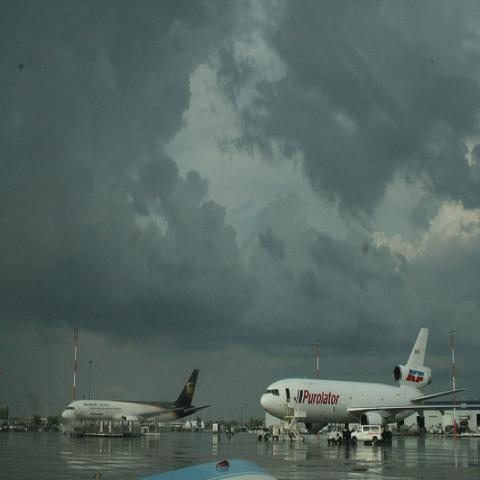truck: (351, 423, 383, 444), (327, 423, 350, 445)
